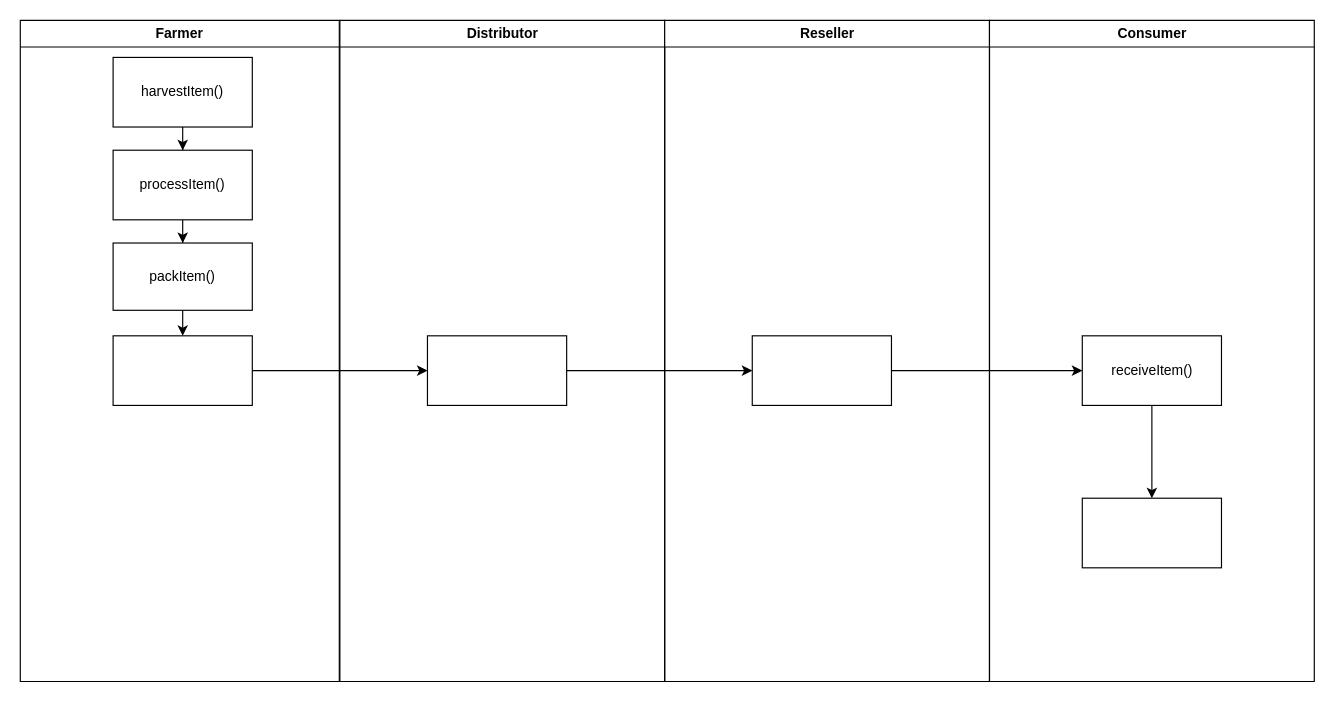
Image size: 1335x702. Some labels were removed from this diagram. The centre of each missing label's shape, as x and y in pixels:
"buyItem()" goes at point 496,370.
"purchaseItem()" goes at point 1151,532.
"sellItem()" goes at point 182,370.
"shipItem()" goes at point 821,370.
